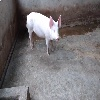heo: (25, 10, 62, 55)
